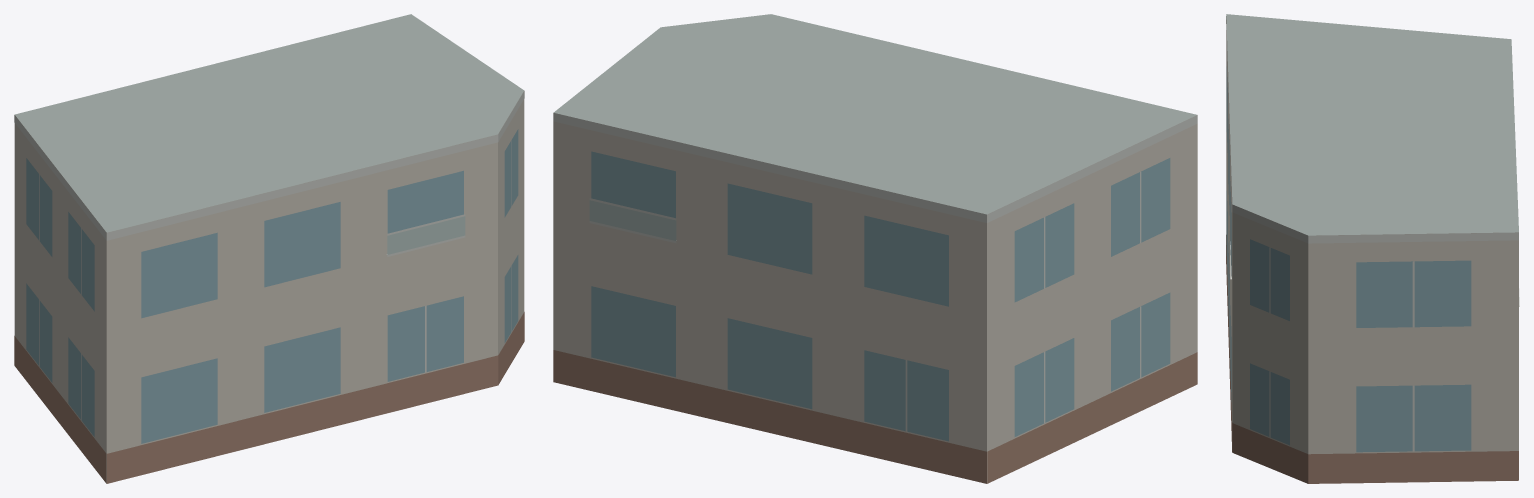
File: survey-upis-32627895.glb
3 renders of one model, left to right at view 1: azimuth 30°, elevation 25°; view 2: azimuth 150°, elevation 25°; view 3: azimuth 270°, elevation 25°, orthographic. The views are drawn at different scales.
Visible parts, largest first — view 1: survey-upis-32627895.tmp; view 2: survey-upis-32627895.tmp; view 3: survey-upis-32627895.tmp.
Boxes of the visible parts, x1,y1,x2,y2 form: survey-upis-32627895.tmp: (14, 14, 524, 483); survey-upis-32627895.tmp: (553, 14, 1197, 483); survey-upis-32627895.tmp: (1226, 14, 1519, 483).
Size of the model in its own units: 14.55 by 7.6 by 8.15.
